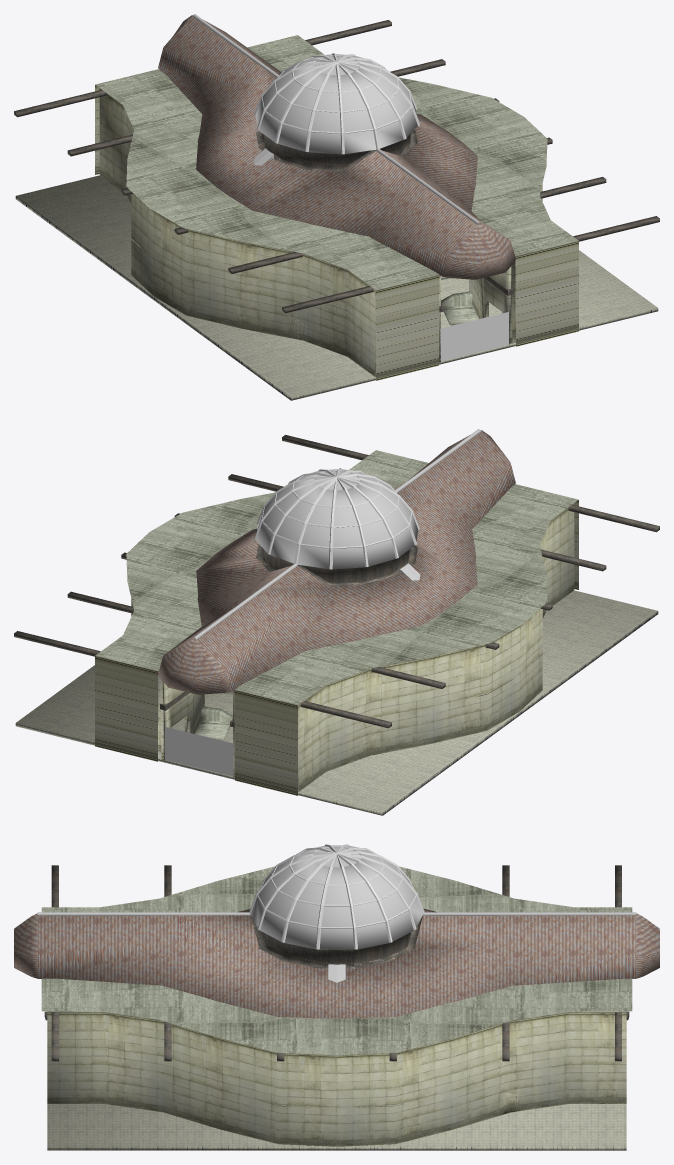
File: TheDome.fbx
3 views of the same model, one above another, from view 1: azimuth 30°, elevation 25°; view 2: azimuth 150°, elevation 25°; view 3: azimuth 270°, elevation 25° (orthographic). The views are drawn at different scales.
Visible parts, largest first — view 1: Sphere, Cube.006, Cube, Plane, Cube.001, Sphere.002, Plane.001, Sphere.001, Sphere.003, Cube.002; view 2: Sphere, Cube.006, Cube, Plane, Cube.001, Sphere.002, Plane.001, Sphere.001, Sphere.003, Cube.002; view 3: Sphere, Cube, Cube.006, Plane, Sphere.002, Cube.001, Sphere.001, Sphere.003.
Boxes of the visible parts, bbox=[...] form: Sphere: bbox=[158, 15, 515, 279]; Cube.006: bbox=[95, 35, 578, 380]; Cube: bbox=[99, 88, 542, 376]; Plane: bbox=[15, 175, 658, 400]; Cube.001: bbox=[14, 20, 659, 313]; Sphere.002: bbox=[254, 53, 419, 154]; Plane.001: bbox=[440, 312, 508, 361]; Sphere.001: bbox=[193, 14, 480, 224]; Sphere.003: bbox=[261, 54, 411, 133]; Cube.002: bbox=[441, 291, 478, 325]; Sphere: bbox=[158, 430, 515, 694]; Cube.006: bbox=[95, 450, 578, 795]; Cube: bbox=[131, 503, 574, 791]; Plane: bbox=[15, 590, 658, 815]; Cube.001: bbox=[14, 435, 659, 728]; Sphere.002: bbox=[254, 468, 419, 569]; Plane.001: bbox=[165, 727, 233, 776]; Sphere.001: bbox=[193, 429, 480, 639]; Sphere.003: bbox=[262, 469, 412, 548]; Cube.002: bbox=[195, 706, 232, 740]; Sphere: bbox=[14, 845, 659, 1018]; Cube: bbox=[47, 1011, 626, 1146]; Cube.006: bbox=[41, 866, 632, 1055]; Plane: bbox=[47, 1104, 626, 1150]; Sphere.002: bbox=[249, 844, 424, 949]; Cube.001: bbox=[51, 865, 621, 1061]; Sphere.001: bbox=[37, 912, 636, 915]; Sphere.003: bbox=[257, 845, 416, 928].
Size of the model in its own units: 56.56 by 28.33 by 80.31.
